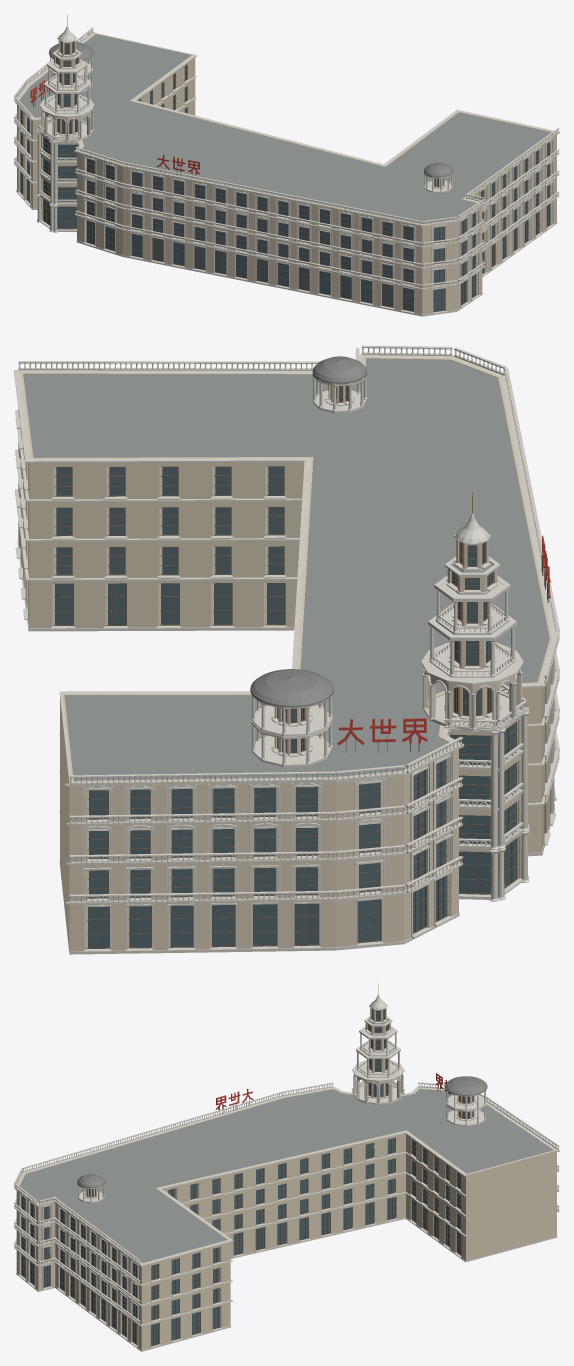
Rendered from huangpu-great-world-web.glb.
3 renders of one model, top to bottom at view 1: azimuth 30°, elevation 25°; view 2: azimuth 150°, elevation 25°; view 3: azimuth 270°, elevation 25°, orthographic. The views are drawn at different scales.
Visible parts, largest first — view 1: 上海大世界｜四层U形主体、街角塔与屋顶亭; view 2: 上海大世界｜四层U形主体、街角塔与屋顶亭; view 3: 上海大世界｜四层U形主体、街角塔与屋顶亭.
Boxes of the visible parts, x1,y1,x2,y2 form: 上海大世界｜四层U形主体、街角塔与屋顶亭: (14, 14, 559, 316); 上海大世界｜四层U形主体、街角塔与屋顶亭: (14, 345, 559, 954); 上海大世界｜四层U形主体、街角塔与屋顶亭: (14, 983, 559, 1351).
Bounding box in the file's own units: 91.83 × 46.4 × 116.
